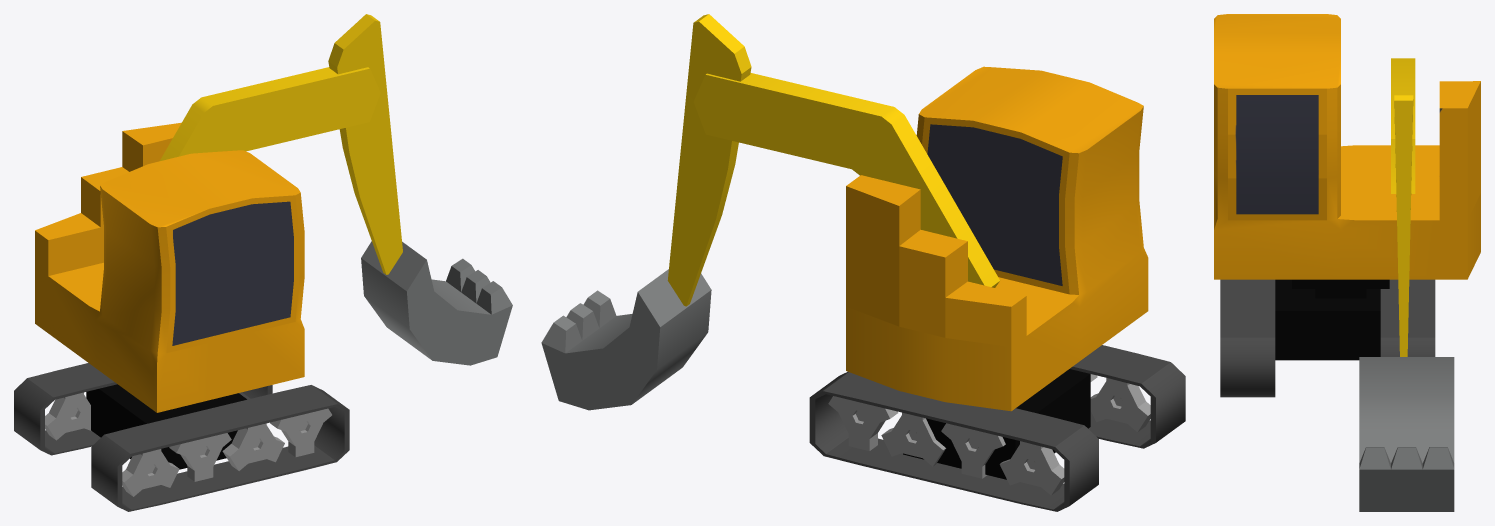
The model's file is porclain.fbx.
The picture shows the model from 3 angles, left to right: view 1: azimuth 30°, elevation 25°; view 2: azimuth 150°, elevation 25°; view 3: azimuth 270°, elevation 25°; orthographic projection. The views are drawn at different scales.
Parts seen in each view (by area): view 1: Box001, Box003, Line001, Box005, Line002, Box006, Box002, Cylinder016, Cylinder003, Cylinder017, Cylinder019, Cylinder018; view 2: Box001, Line001, Box006, Box005, Line002, Box003, Box002, Cylinder019, Cylinder003, Cylinder020, Cylinder022, Cylinder021; view 3: Box001, Box005, Box002, Box003, Line002, Box006, Line001.
Part boxes in pixels (x1,y1,x2,y2): Box001: (35, 122, 304, 412); Box003: (91, 385, 349, 511); Line001: (160, 67, 380, 160); Box005: (361, 241, 512, 365); Line002: (328, 14, 402, 274); Box006: (14, 363, 272, 455); Box002: (86, 384, 246, 469); Cylinder016: (222, 423, 284, 470); Cylinder003: (122, 449, 179, 496); Cylinder017: (169, 433, 231, 481); Cylinder019: (45, 392, 91, 440); Cylinder018: (270, 408, 331, 457); Box001: (846, 66, 1148, 411); Line001: (693, 73, 1000, 287); Box006: (809, 372, 1098, 511); Box005: (541, 269, 711, 410); Line002: (667, 14, 751, 306); Box003: (1070, 345, 1185, 448); Box002: (903, 369, 1090, 479); Cylinder019: (999, 441, 1064, 495); Cylinder003: (1090, 378, 1150, 432); Cylinder020: (881, 412, 945, 466); Cylinder022: (828, 396, 898, 450); Cylinder021: (941, 423, 1005, 478); Box001: (1214, 14, 1480, 279); Box005: (1359, 357, 1454, 511); Box002: (1275, 279, 1389, 360); Box003: (1220, 279, 1275, 397); Line002: (1394, 95, 1413, 356); Box006: (1380, 279, 1435, 356); Line001: (1391, 58, 1415, 193).
Bounding box in the file's own units: 246 × 179 × 119.
